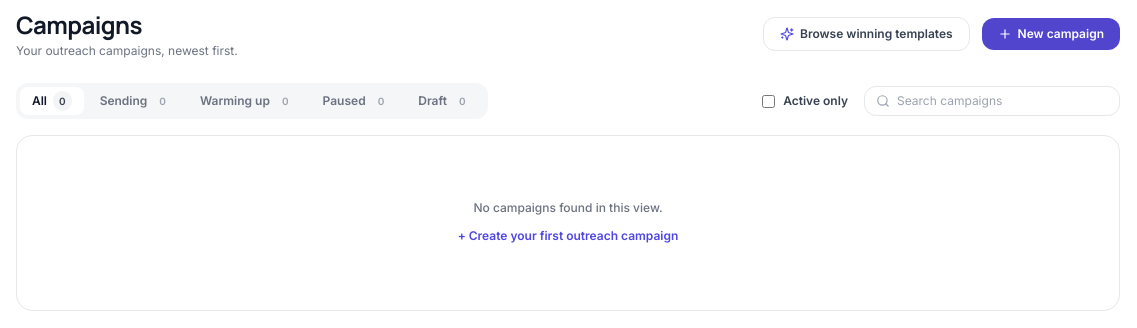
it: explicit catalog reload reflects a changed role without creator ownership overrides
The width and height of the screenshot is (1137, 328).
What coordinates should you click on to do the following:
click the button "Browse winning templates"
I would click on:
 (866, 34)
Its box is [763,17,970,51].
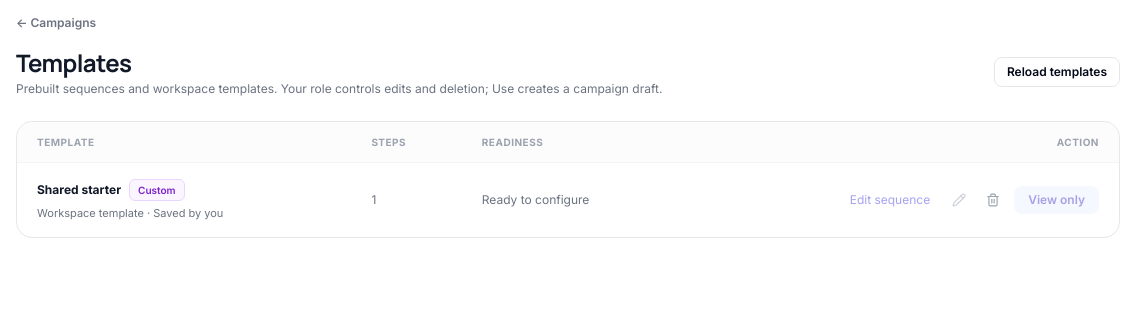
Now the button "View only" is disabled, box [1014,186,1099,214]
What coordinates should you click on to do the following:
click the button "Reload templates"
I would click on:
 (1057, 72)
Its box is [994,57,1120,87].
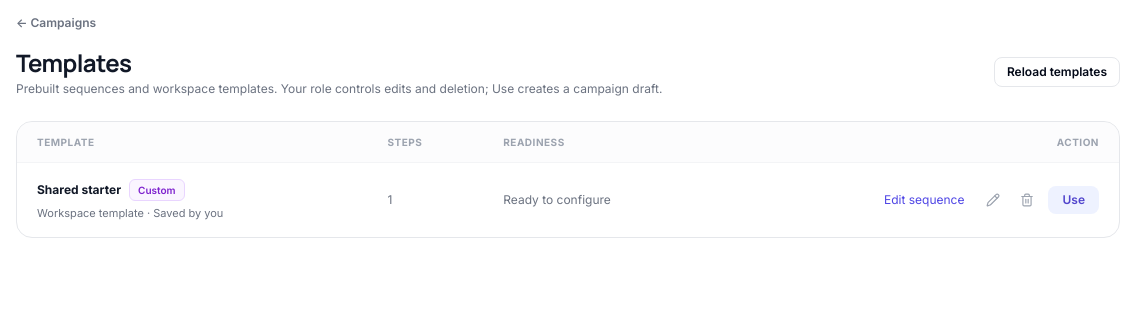
Now the button named "Delete template Shared starter" is disabled, box [1014,187,1040,213]
Now the button "Use" is enabled, box [1048,186,1099,214]
Now the button named "Edit template details Shared starter" is enabled, box [980,187,1006,213]
